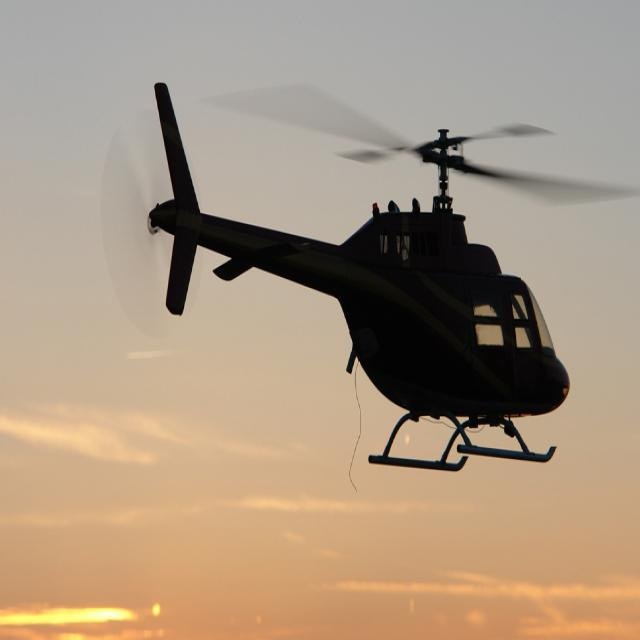helicopter: (110, 78, 640, 467)
